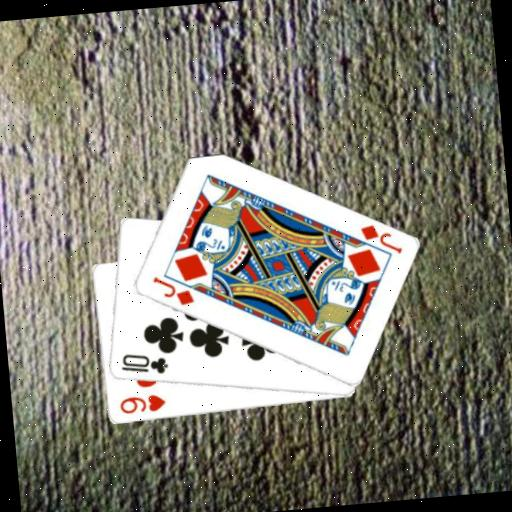10C: (117, 348, 170, 379)
9H: (116, 391, 168, 417)
JD: (356, 219, 405, 259), (148, 270, 195, 310)
